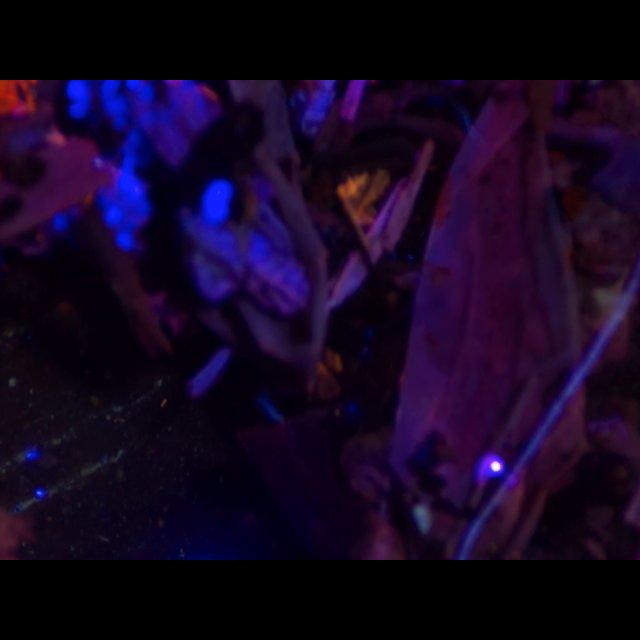microbeads: (7, 375, 19, 387)
